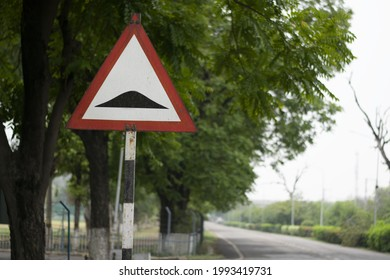speed-breaker: (81, 34, 184, 129)
